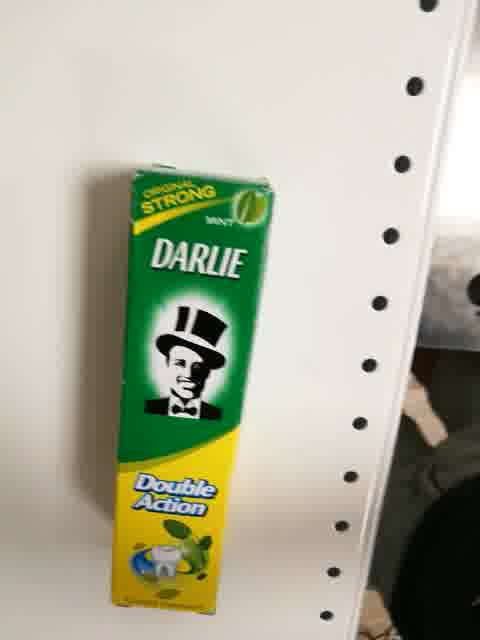toothpaste: (108, 160, 275, 617)
